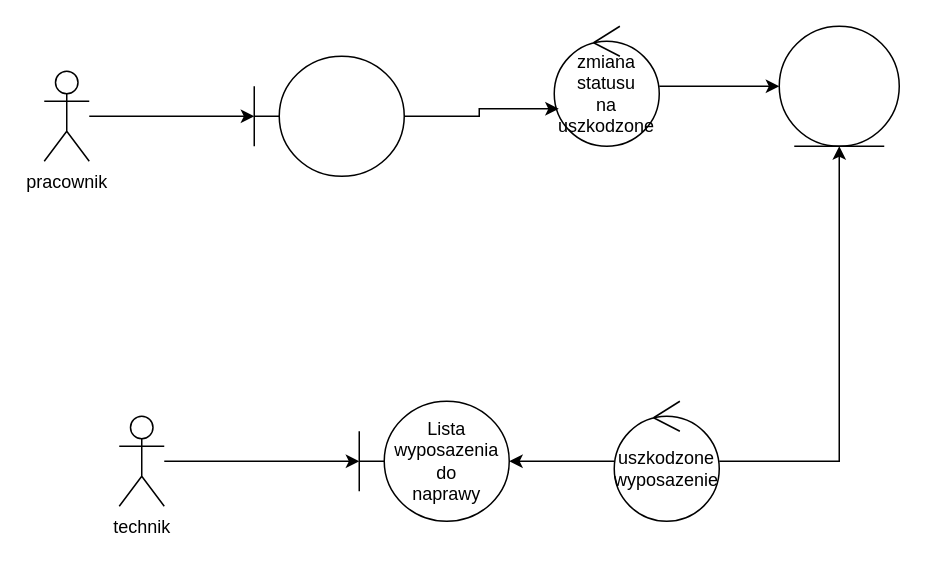
The diagram is 926 pixels wide and 564 high, and some of its shapes have lost their labels. The shapes that lost their labels are listed below. From the top down, each one's centre as x and y in pixels, then its label:
At (838,85): "Wyposazenie".
At (328,115): "formularz zgloszen usterki".
